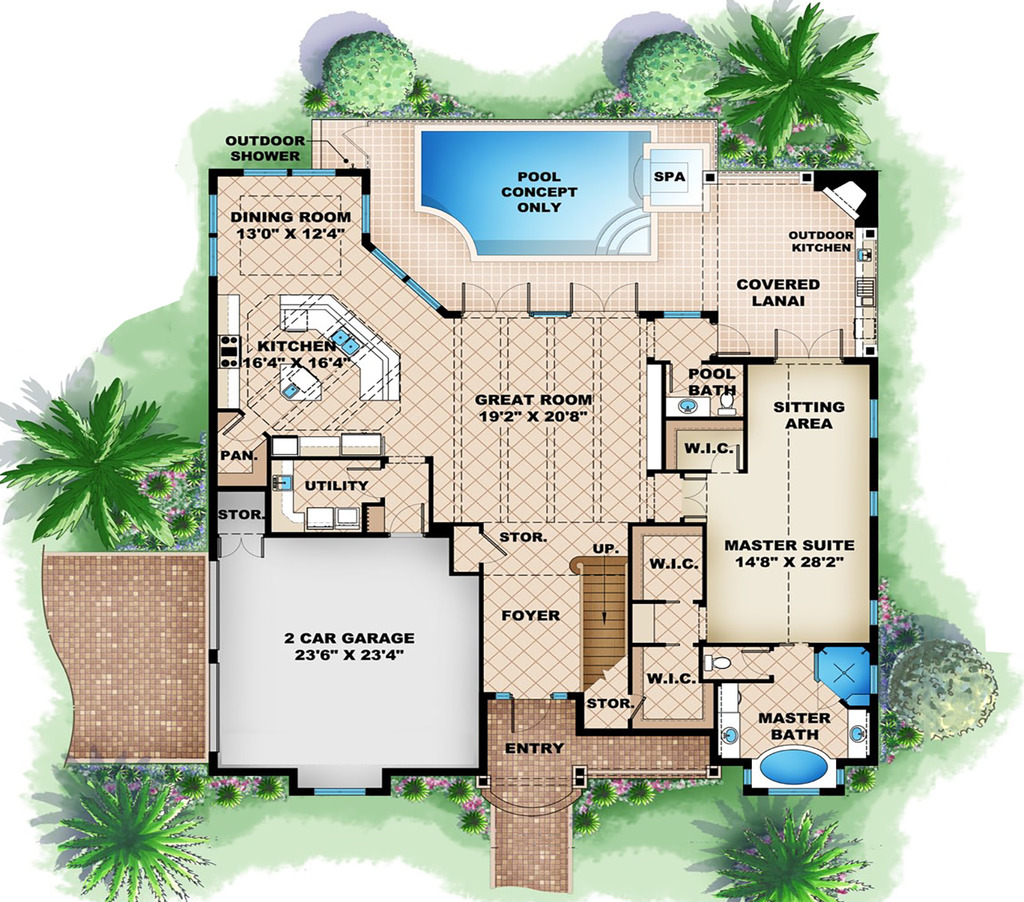door: (769, 329, 843, 365), (458, 281, 534, 315), (570, 281, 639, 314), (219, 533, 268, 563), (715, 323, 752, 362)
kitchen_bar: (272, 293, 402, 405)
large_sink: (695, 649, 735, 678), (714, 395, 738, 426)
small_sink: (664, 390, 710, 422), (846, 710, 872, 760), (717, 711, 741, 759)
stairs: (577, 555, 629, 691)
tub: (751, 742, 834, 783)
windows: (241, 167, 344, 185), (206, 192, 221, 281), (304, 786, 368, 799), (657, 308, 710, 319)
